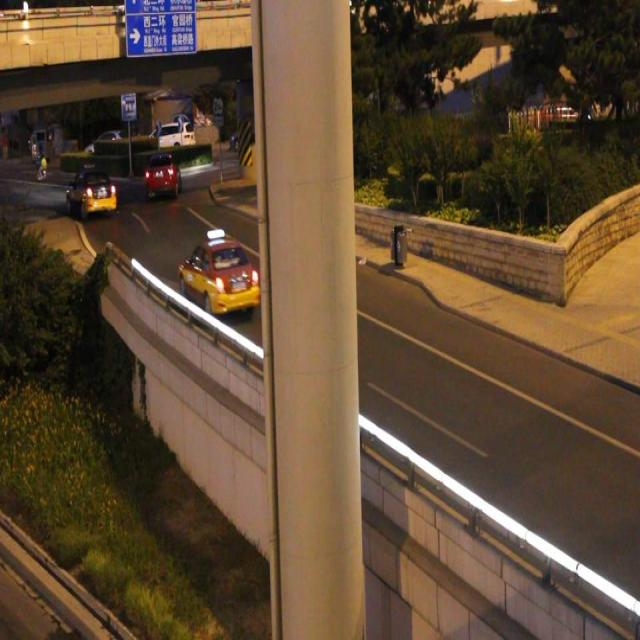car: (178, 229, 260, 316), (67, 161, 116, 217), (145, 151, 180, 197)
